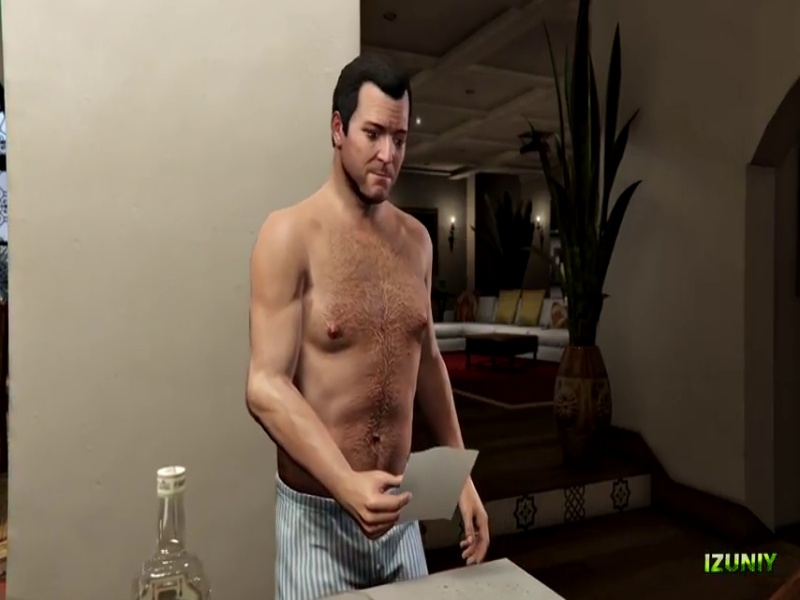human: (241, 69, 469, 581)
